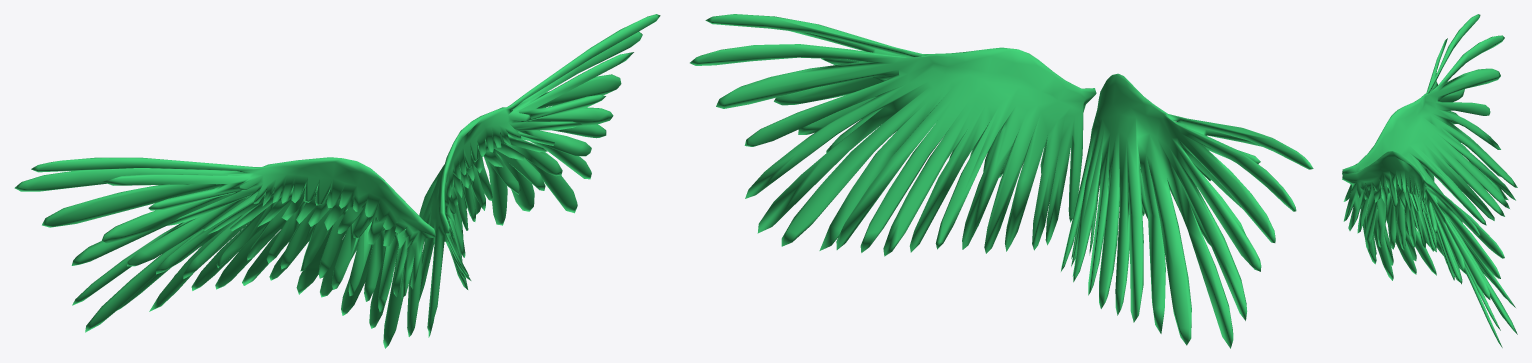
File: AngelWings.dae
The picture shows the model from 3 angles, left to right: view 1: azimuth 30°, elevation 25°; view 2: azimuth 150°, elevation 25°; view 3: azimuth 270°, elevation 25°; orthographic projection. The views are drawn at different scales.
Parts seen in each view (by area): view 1: pCube1; view 2: pCube1; view 3: pCube1.
Boxes of the visible parts, x1,y1,x2,y2 form: pCube1: [14, 14, 660, 348]; pCube1: [690, 14, 1313, 348]; pCube1: [1342, 14, 1517, 347].
Bounding box in the file's own units: 68.61 × 23.12 × 22.29.
